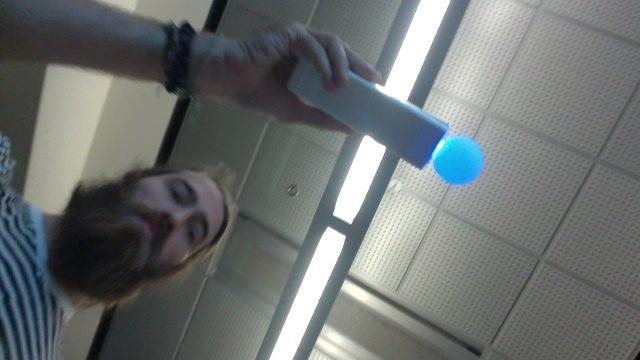wand: (434, 138, 483, 185)
